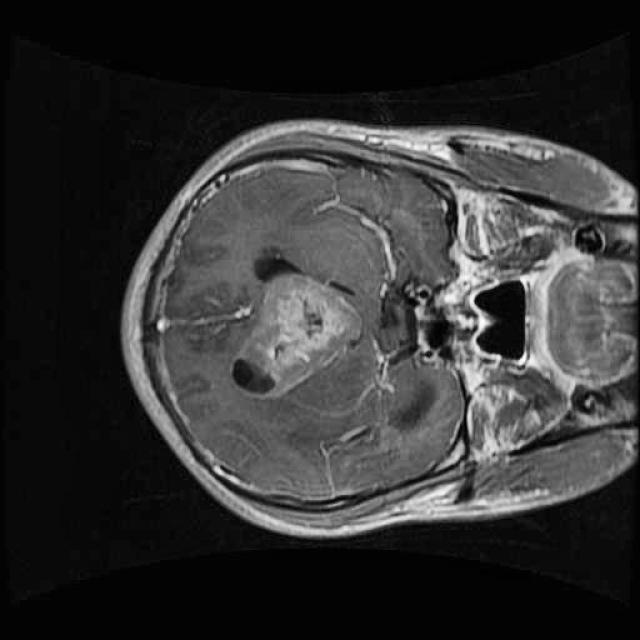Tumor: (232, 264, 372, 408)
